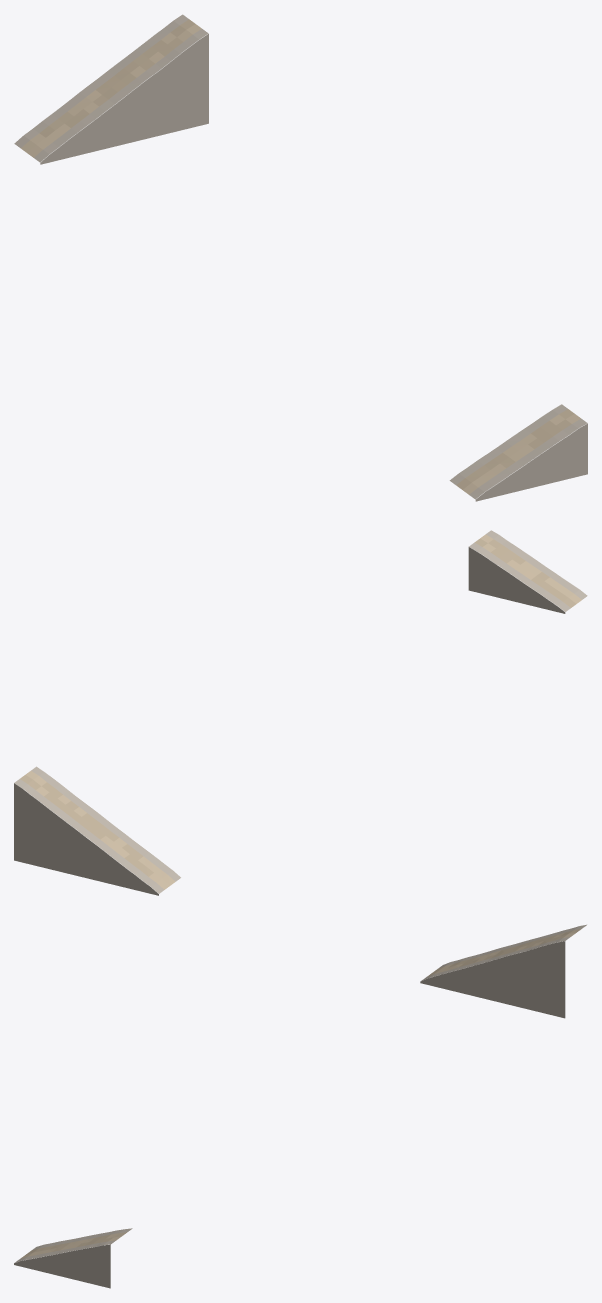
Rendered from srf_terr_ramps.glb.
3 renders of one model, top to bottom at view 1: azimuth 30°, elevation 25°; view 2: azimuth 150°, elevation 25°; view 3: azimuth 330°, elevation 25°, orthographic. The views are drawn at different scales.
Parts seen in each view (by area): view 1: srf_terr_ramps; view 2: srf_terr_ramps; view 3: srf_terr_ramps.
Boxes of the visible parts, bbox=[...] form: srf_terr_ramps: bbox=[14, 14, 587, 501]; srf_terr_ramps: bbox=[14, 530, 587, 895]; srf_terr_ramps: bbox=[14, 924, 586, 1288].
Size of the model in its own units: 10 by 4.6 by 44.44.
